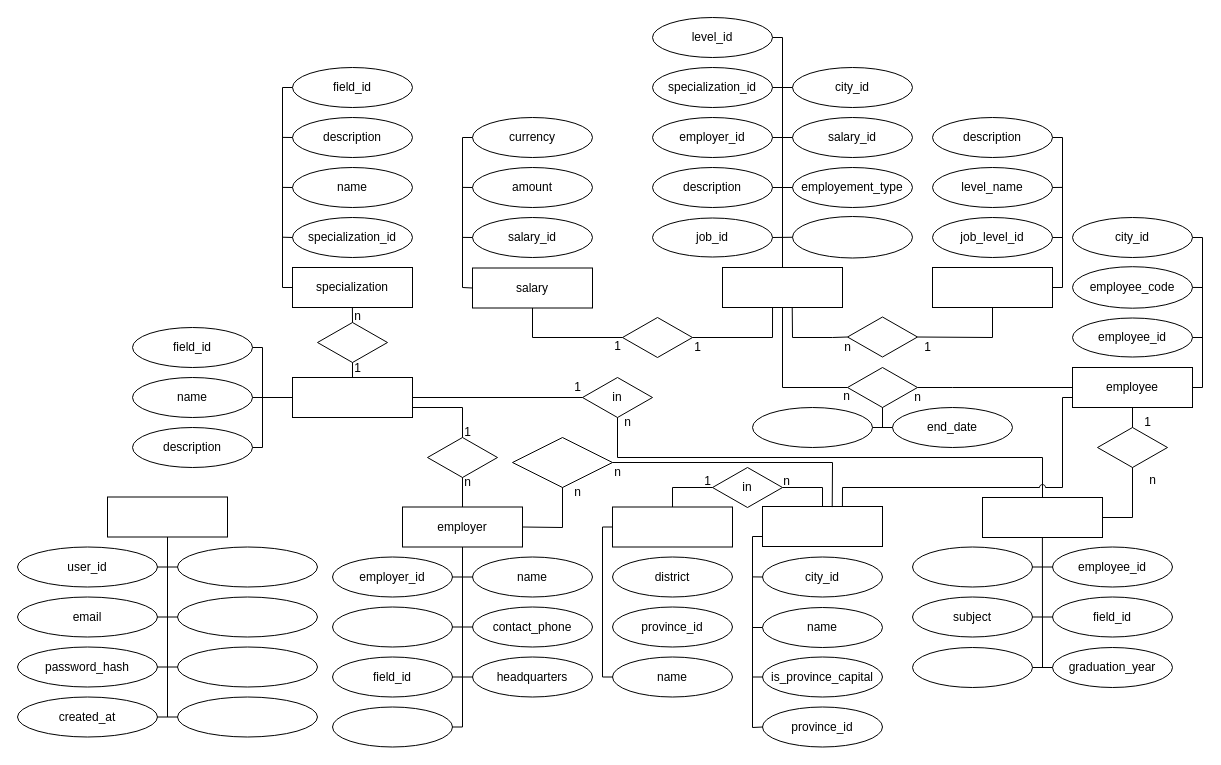
This 1221x765 diagram has some shape labels left out. Here are the shapes that lost their labels. From the top down, the box of each, then its label:
(792, 216, 912, 258): title
(722, 266, 842, 308): job
(932, 266, 1052, 308): job_level
(316, 322, 388, 362): is in
(622, 316, 692, 358): pays
(846, 316, 918, 357): has level
(292, 376, 412, 418): field
(846, 366, 918, 408): works
(752, 406, 872, 448): start_date
(1096, 426, 1168, 468): has
(426, 436, 498, 478): operates in
(512, 436, 612, 488): has subsidiary in
(106, 496, 228, 537): user
(612, 506, 732, 547): province
(762, 506, 882, 546): city
(982, 496, 1102, 538): education
(176, 546, 318, 587): username
(912, 546, 1032, 587): education_id
(176, 596, 318, 637): phone
(332, 606, 452, 647): contact_email
(176, 646, 318, 687): role
(912, 646, 1032, 688): institution_name
(176, 696, 318, 737): last_login
(332, 706, 452, 747): num_of_employees
